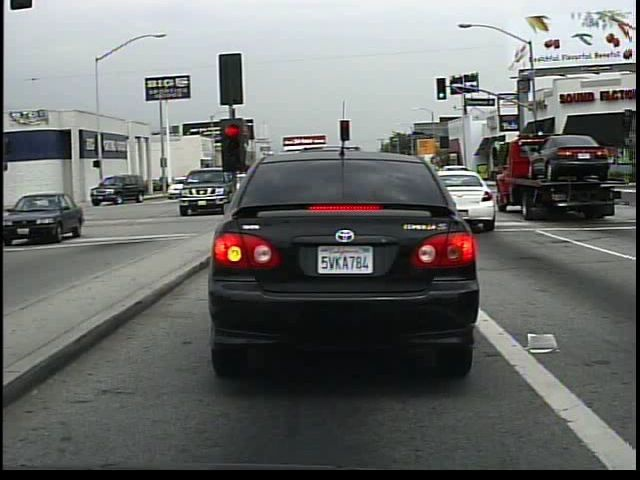person: (181, 174, 202, 199)
